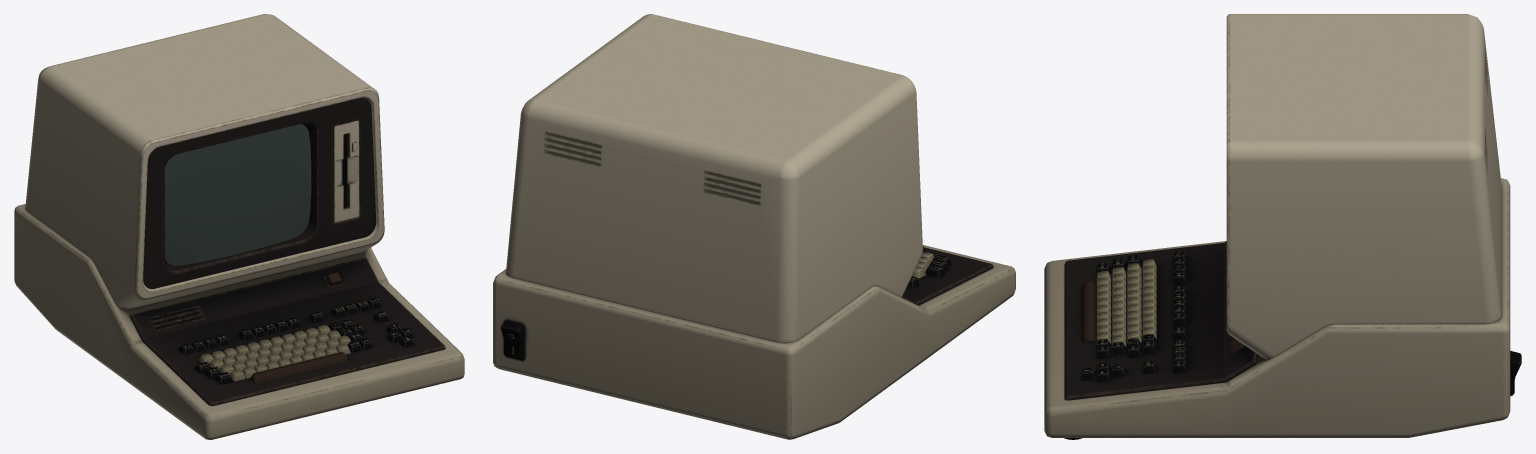
Rendered from Terminal.fbx.
3 views of the same model, side by side, from view 1: azimuth 30°, elevation 25°; view 2: azimuth 150°, elevation 25°; view 3: azimuth 270°, elevation 25° (orthographic). The views are drawn at different scales.
Visible parts, largest first — view 1: Terminal_base, TScreen; view 2: Terminal_base; view 3: Terminal_base.
Part boxes in pixels (left/top/right/bottom): Terminal_base: left=14, top=14, right=464, bottom=439; TScreen: left=165, top=124, right=311, bottom=265; Terminal_base: left=493, top=14, right=1015, bottom=439; Terminal_base: left=1044, top=14, right=1521, bottom=439.
Bounding box in the file's own units: 0.7 × 0.63 × 0.9331.
